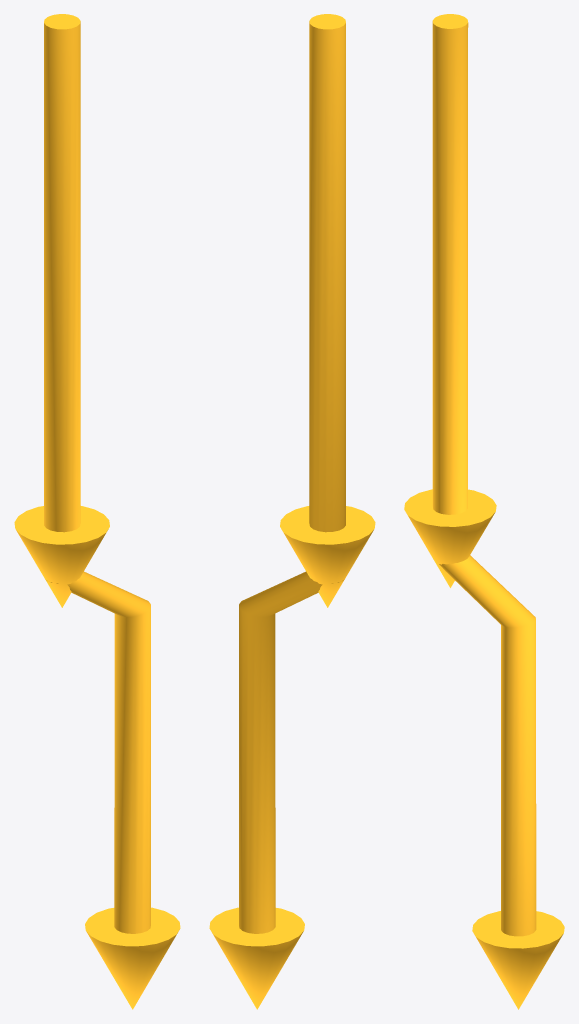
Rendered from thrust_bearing_assembly_flow.glb.
3 renders of one model, left to right at view 1: azimuth 30°, elevation 25°; view 2: azimuth 150°, elevation 25°; view 3: azimuth 330°, elevation 25°, orthographic. The views are drawn at different scales.
Visible parts, largest first — view 1: oil_supply; view 2: oil_supply; view 3: oil_supply.
Part boxes in pixels (<box>): oil_supply: <box>14,14,180,1009</box>; oil_supply: <box>209,14,375,1009</box>; oil_supply: <box>404,14,564,1009</box>.
Size of the model in its own units: 0.048 by 0.3 by 0.026.
